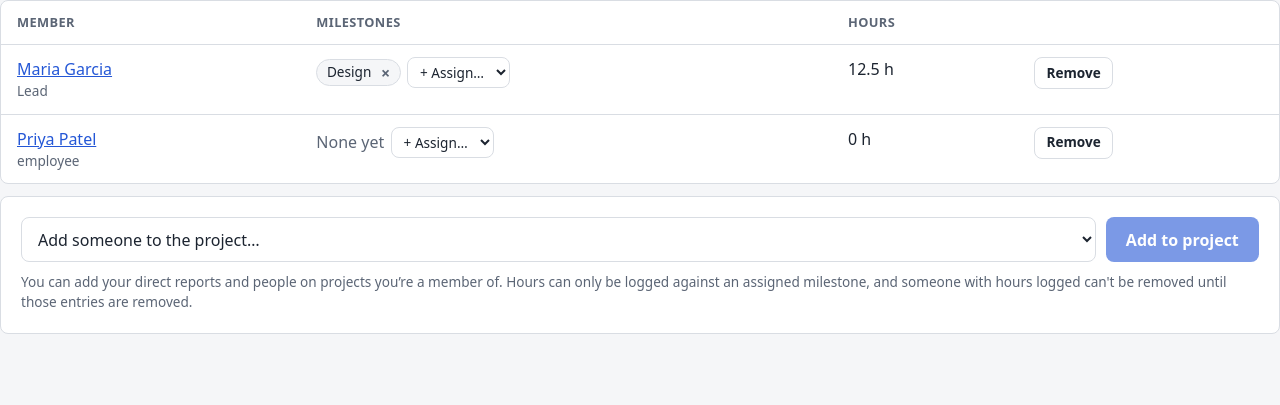
Test: TeamManager assign and unassign › unassigns after confirmation
Click the button named "Unassign Maria Garcia from Design": [386, 73] box [376,65,395,81]
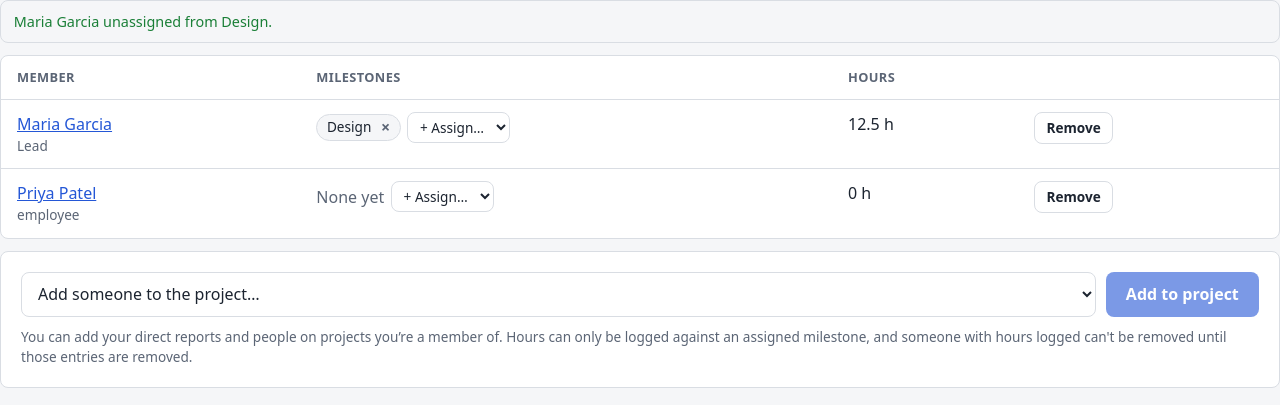
Now the message reads "Maria Garcia unassigned from Design.", box [14,12,272,31]
